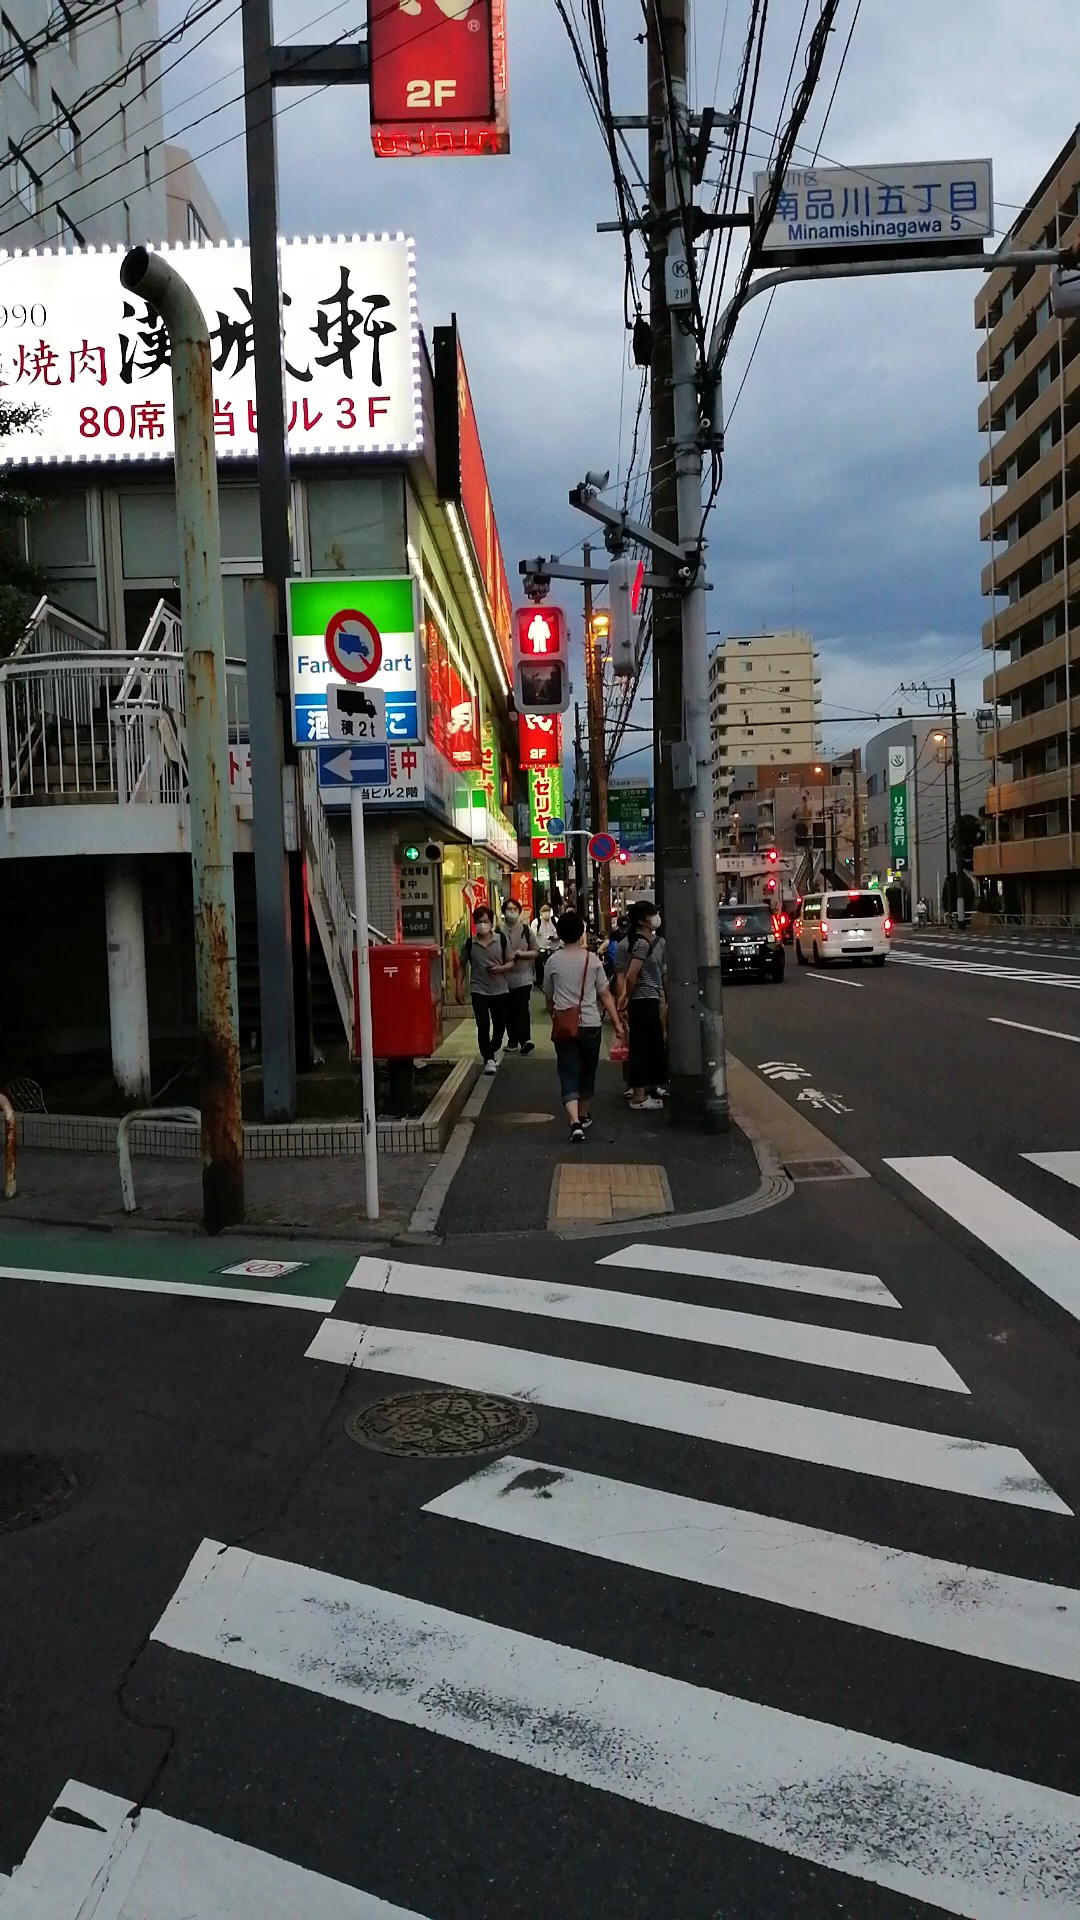red: (513, 604, 568, 712)
